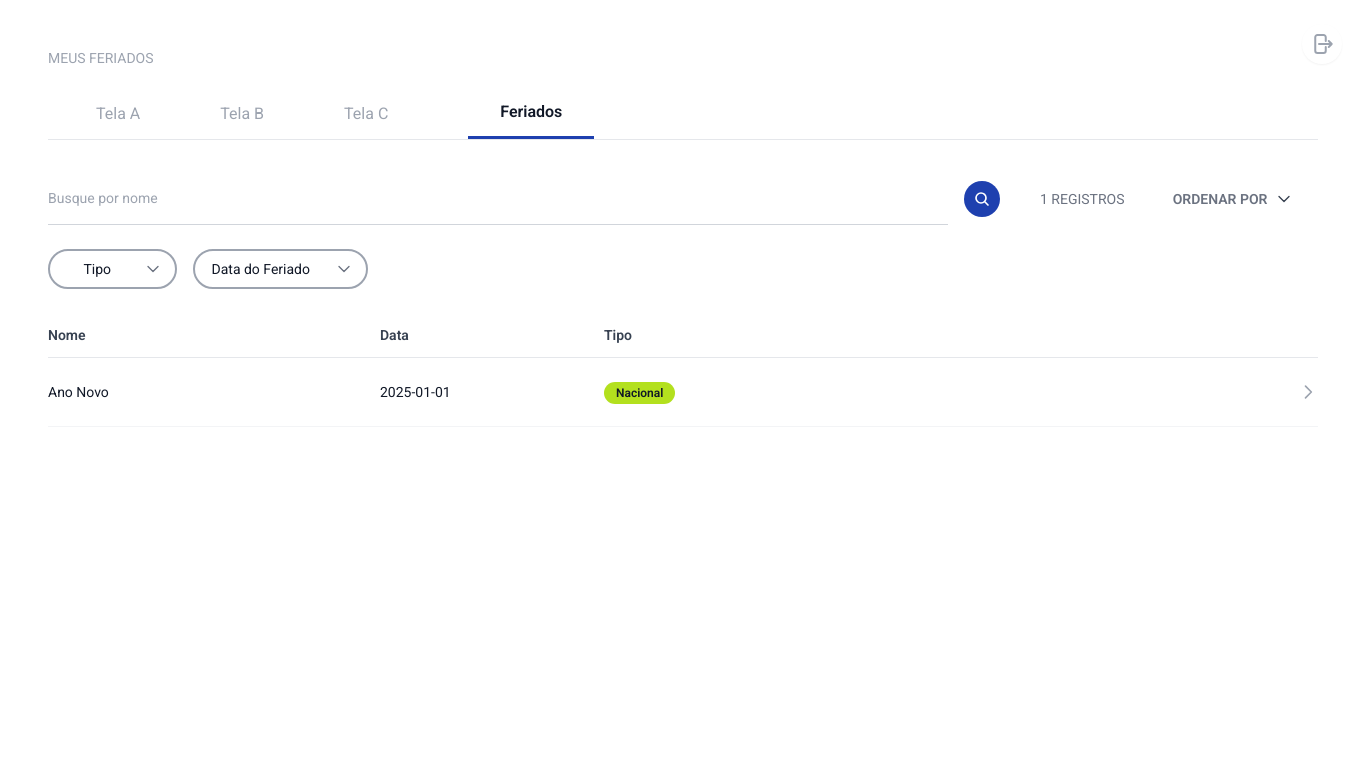
Test: HomePage › abre modal ao clicar em feriado
Expected: the text "Ano Novo" is shown, [48, 384, 109, 400]
Click the button with aria-label "ver detalhes do feriado ano novo" at (78, 392), box [48, 358, 1318, 427]
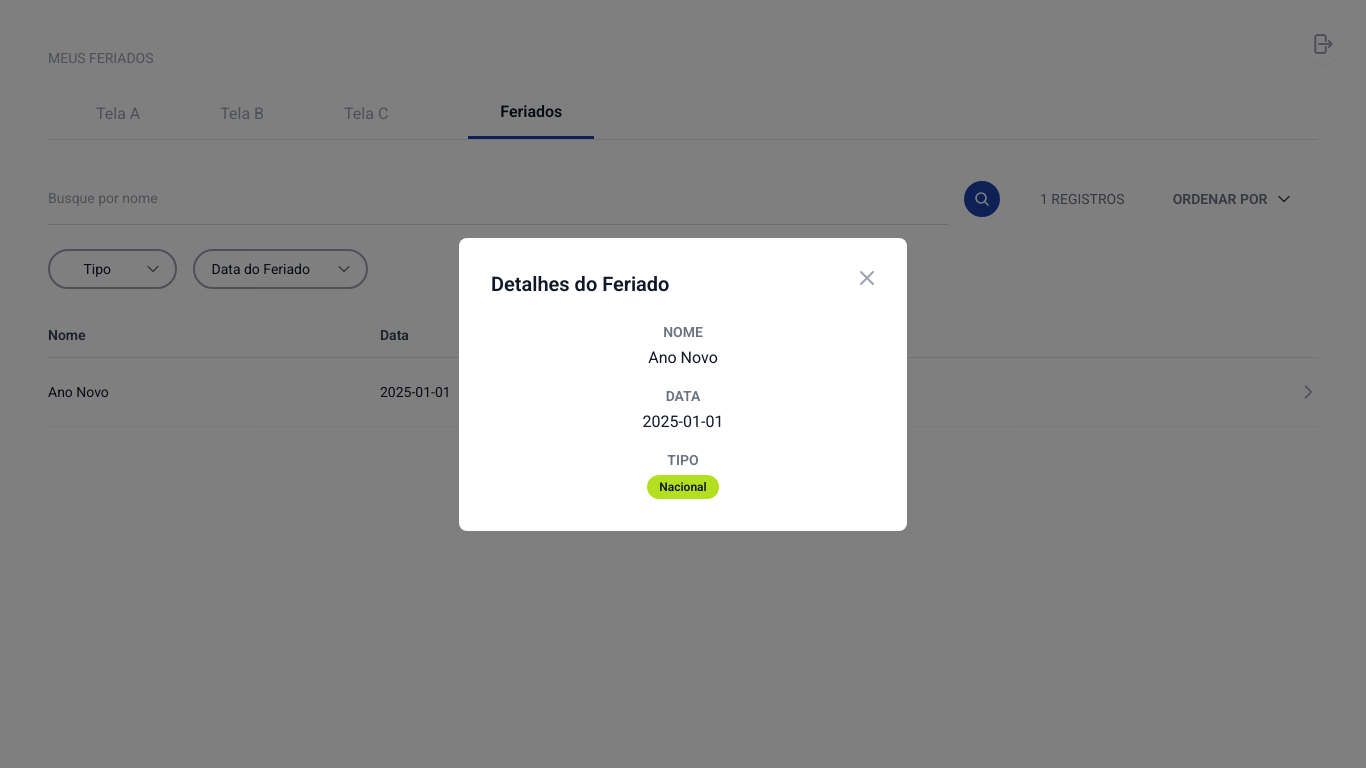
Now the heading "Detalhes do Feriado" is shown, box [491, 270, 669, 298]
